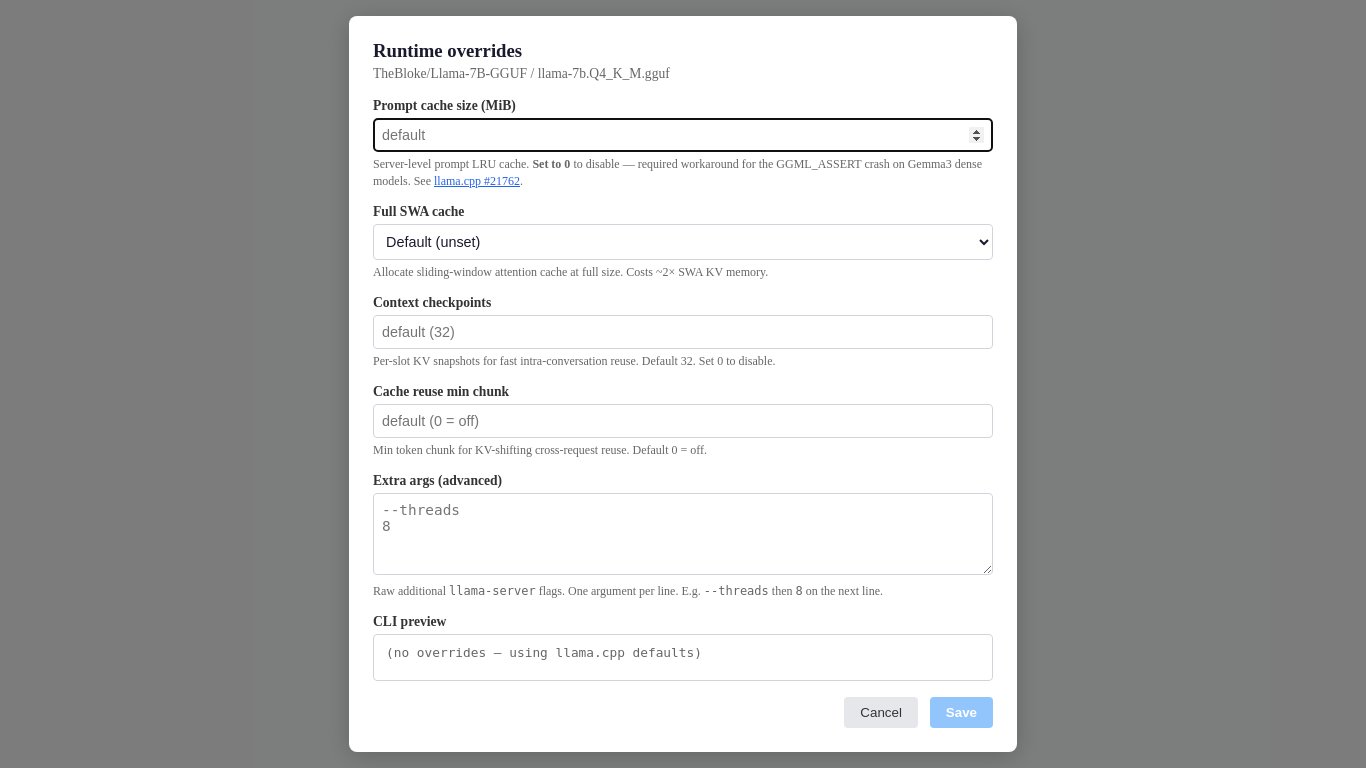
Test case: RuntimeOverridesEditor component › shows a per-field validation error and disables Save
Step 1. Type "999999" into the number field labelled "Prompt cache size (MiB)" → {"x": 683, "y": 135}, box [373,118,993,152]
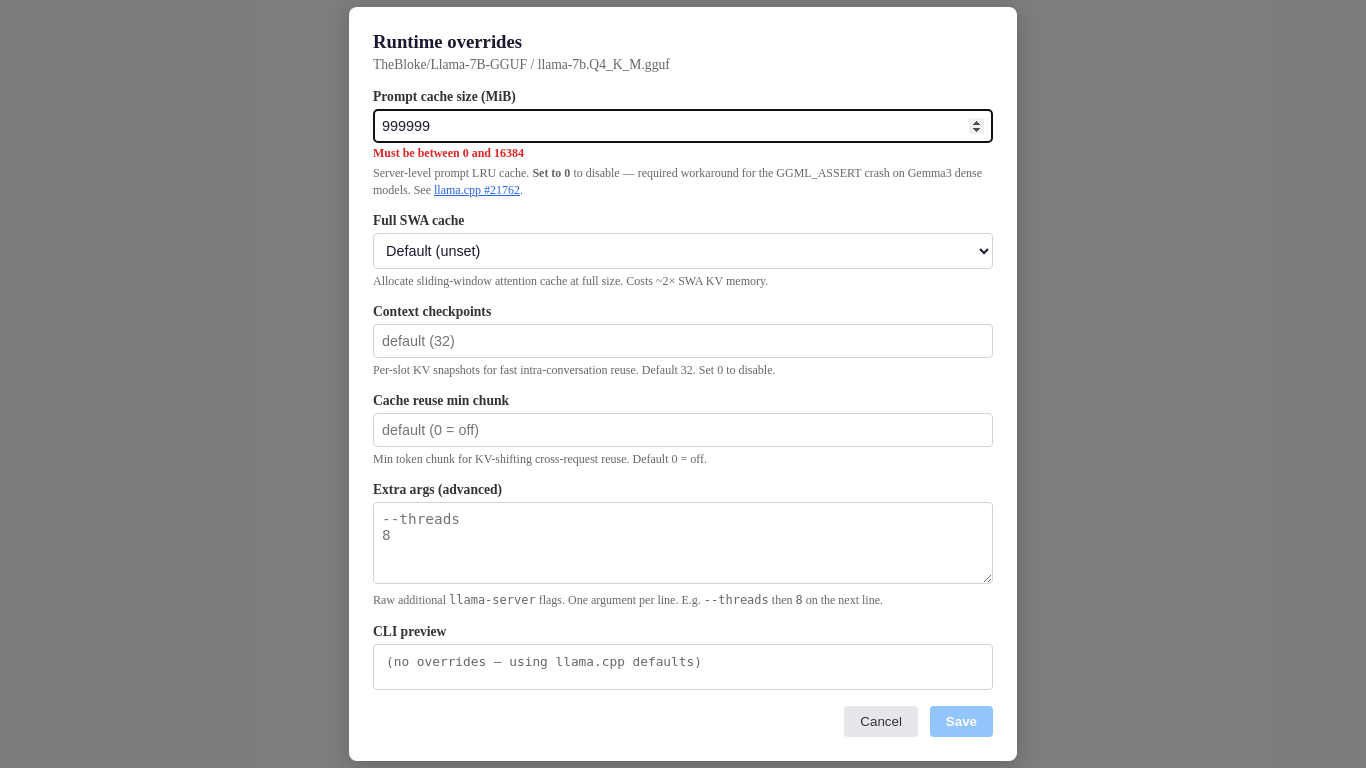
Expected: the button "Save" is disabled, [930,706,993,737]
Expected: the text "Must be between 0 and 16384" is shown, [373,146,524,160]
